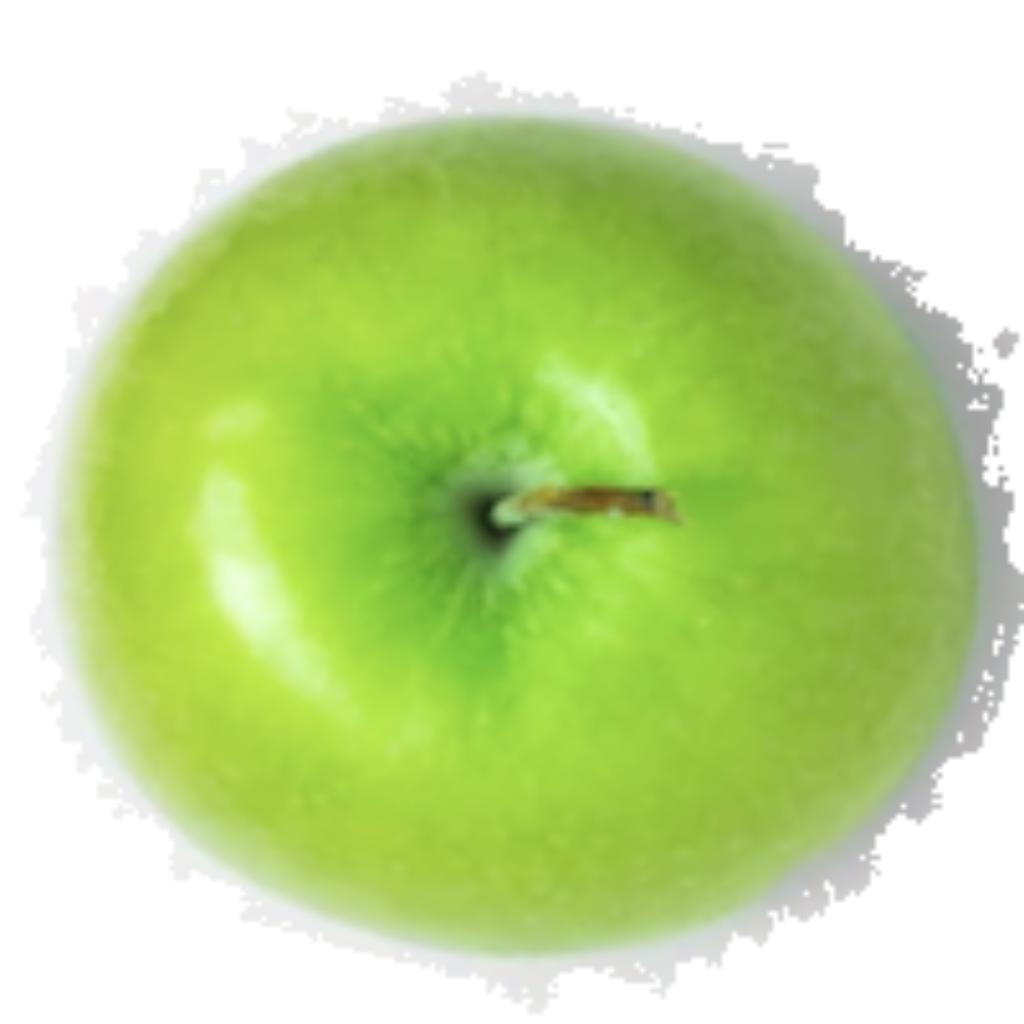apple: (15, 67, 1019, 1014)
